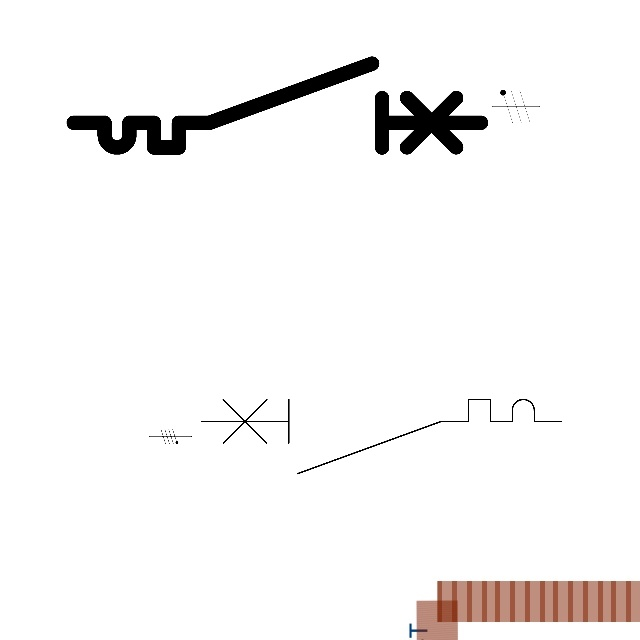interruptor_termomagnetico: (63, 53, 491, 158), (191, 390, 570, 483)
